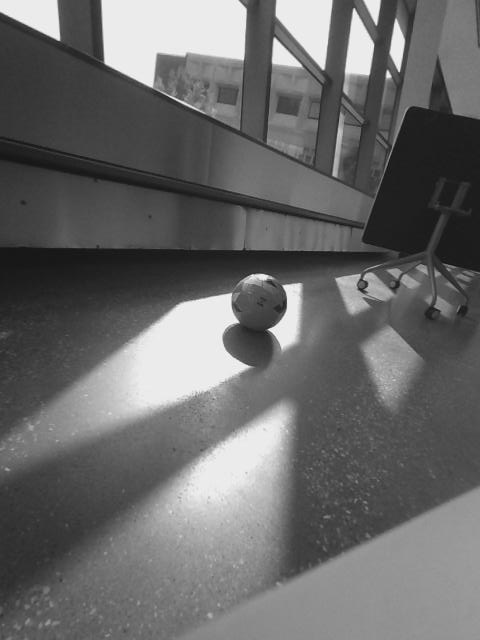ball: (229, 272, 288, 335)
